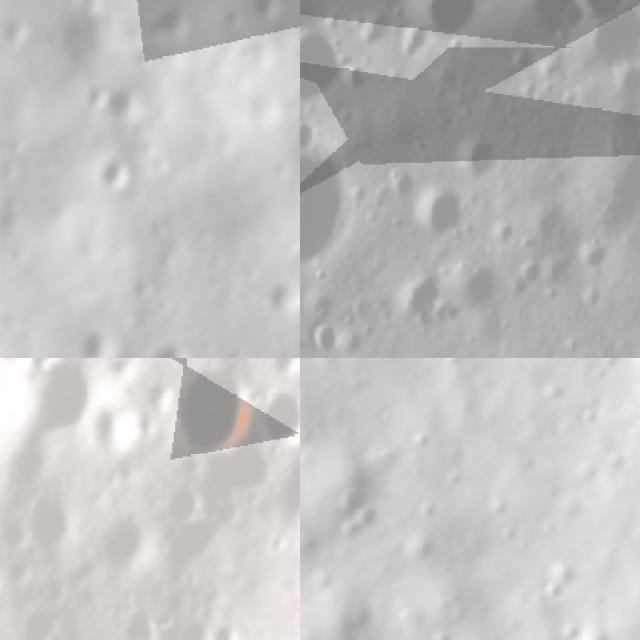crater: (20, 358, 129, 451), (160, 358, 254, 460), (300, 117, 349, 274), (320, 470, 388, 550), (19, 475, 84, 549), (92, 508, 157, 574), (300, 23, 352, 103), (136, 0, 207, 47), (386, 275, 444, 328), (84, 402, 140, 456), (158, 476, 209, 532), (260, 382, 300, 453), (554, 0, 629, 37), (454, 249, 496, 315), (421, 0, 475, 50), (415, 186, 464, 238), (93, 152, 142, 200), (142, 328, 209, 358), (75, 319, 126, 358), (510, 251, 547, 295), (573, 229, 611, 271), (461, 138, 504, 175), (264, 278, 300, 320), (309, 315, 345, 357), (77, 74, 112, 115), (203, 611, 251, 640), (0, 11, 35, 50), (152, 241, 188, 275), (247, 0, 292, 26), (170, 608, 206, 640), (536, 578, 572, 607), (69, 0, 112, 24), (128, 268, 155, 302), (619, 358, 640, 387)
